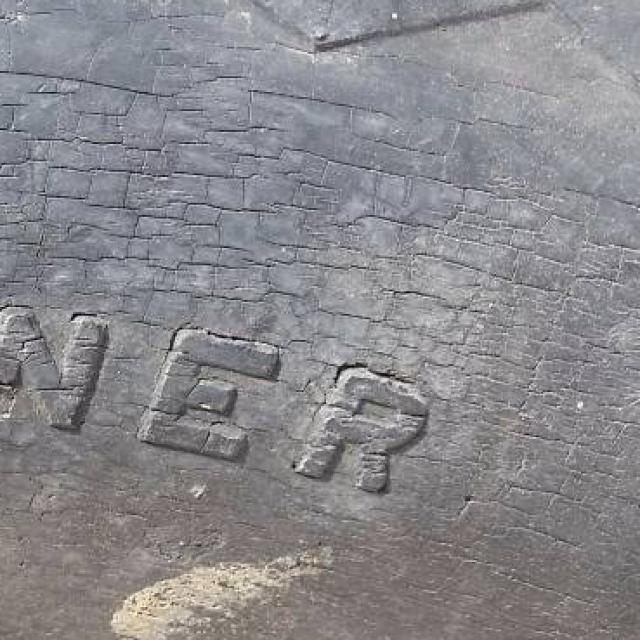Cracks: (0, 37, 638, 627)
